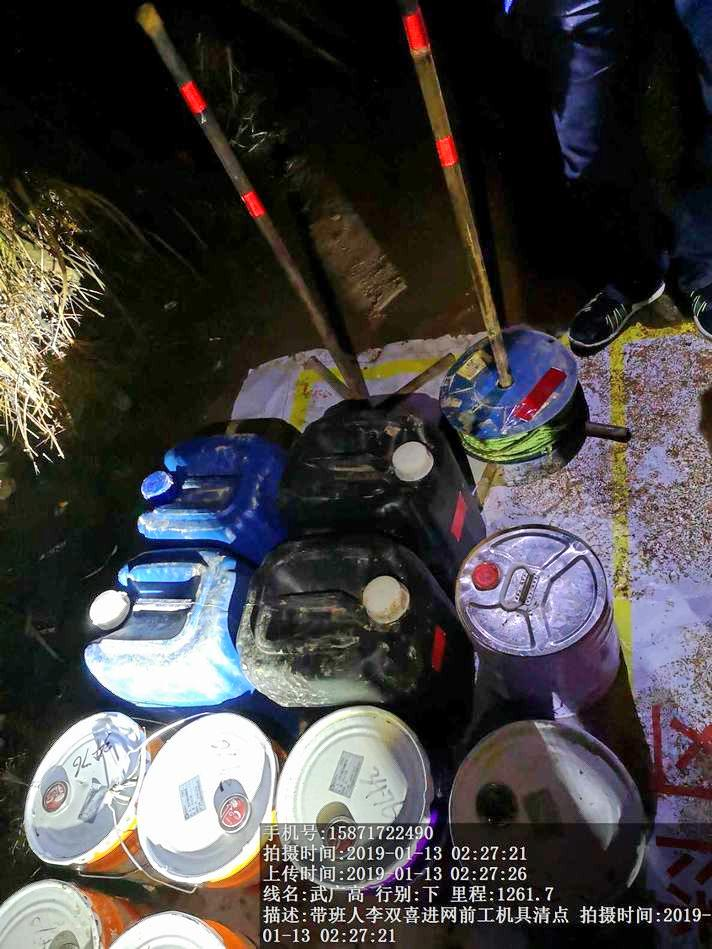SLT: (228, 542, 438, 709), (306, 399, 485, 541), (67, 557, 243, 698), (122, 409, 303, 543)
